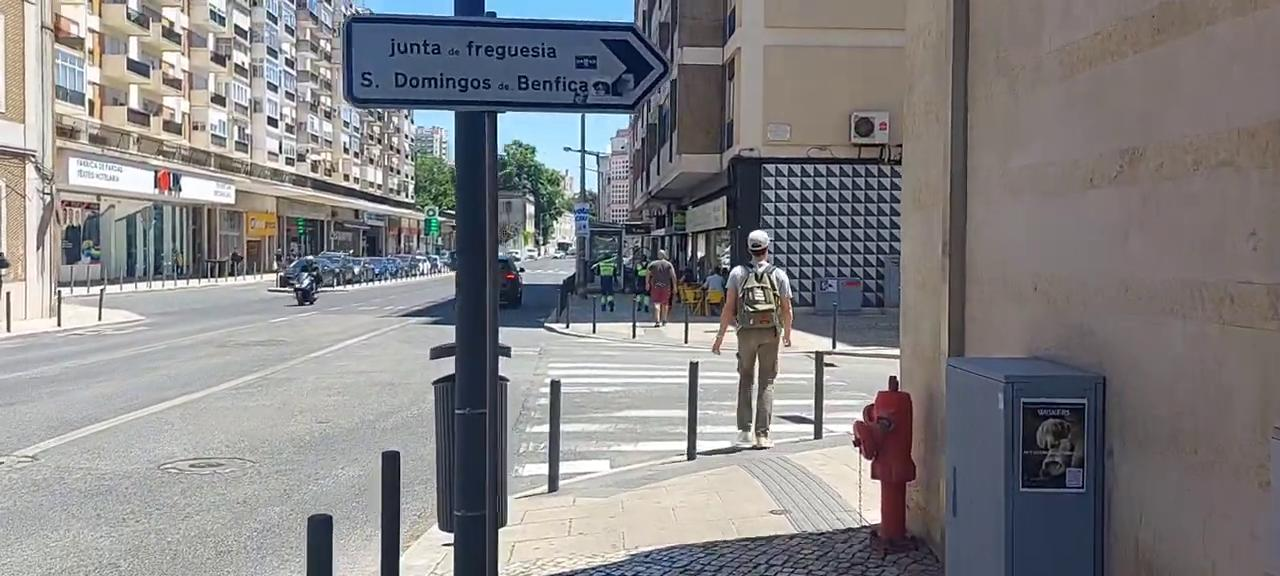direcao de via de acesso: (340, 15, 669, 118)
